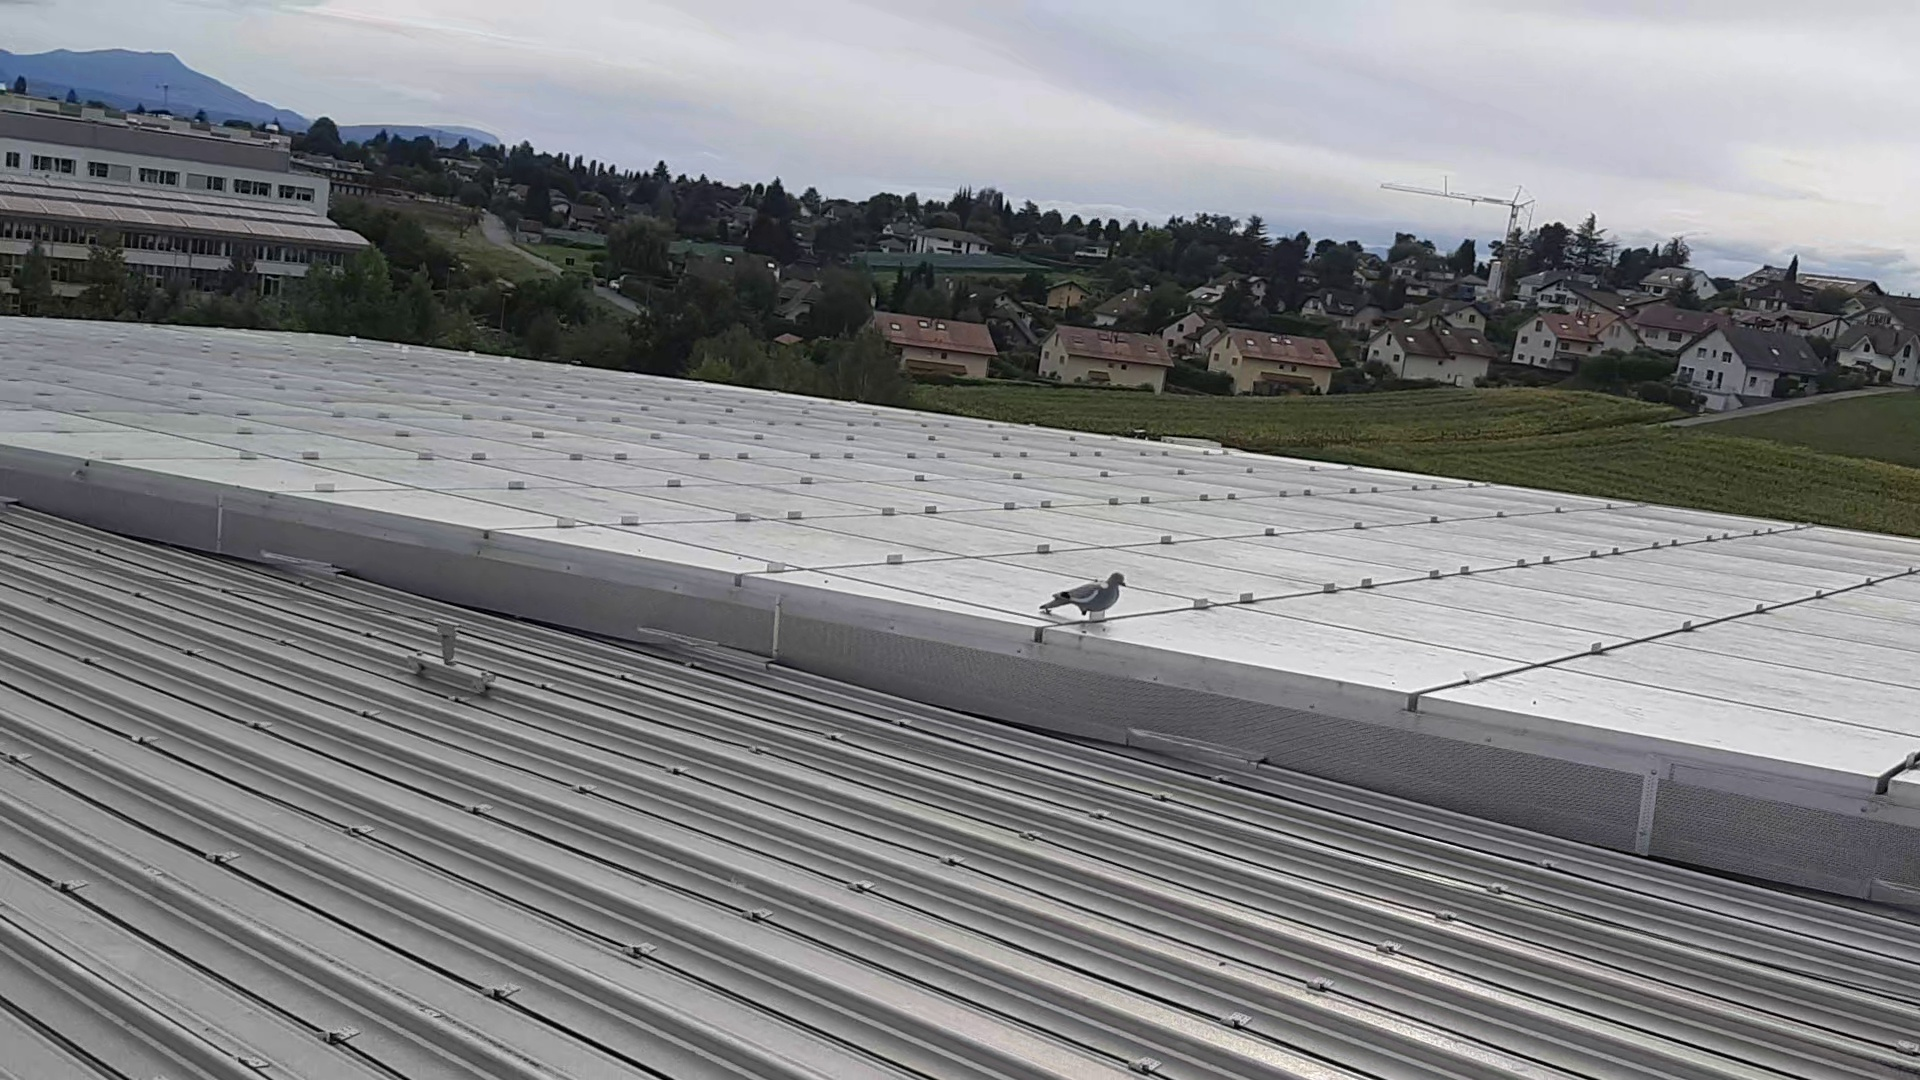Pigeon: (1036, 572, 1131, 622)
